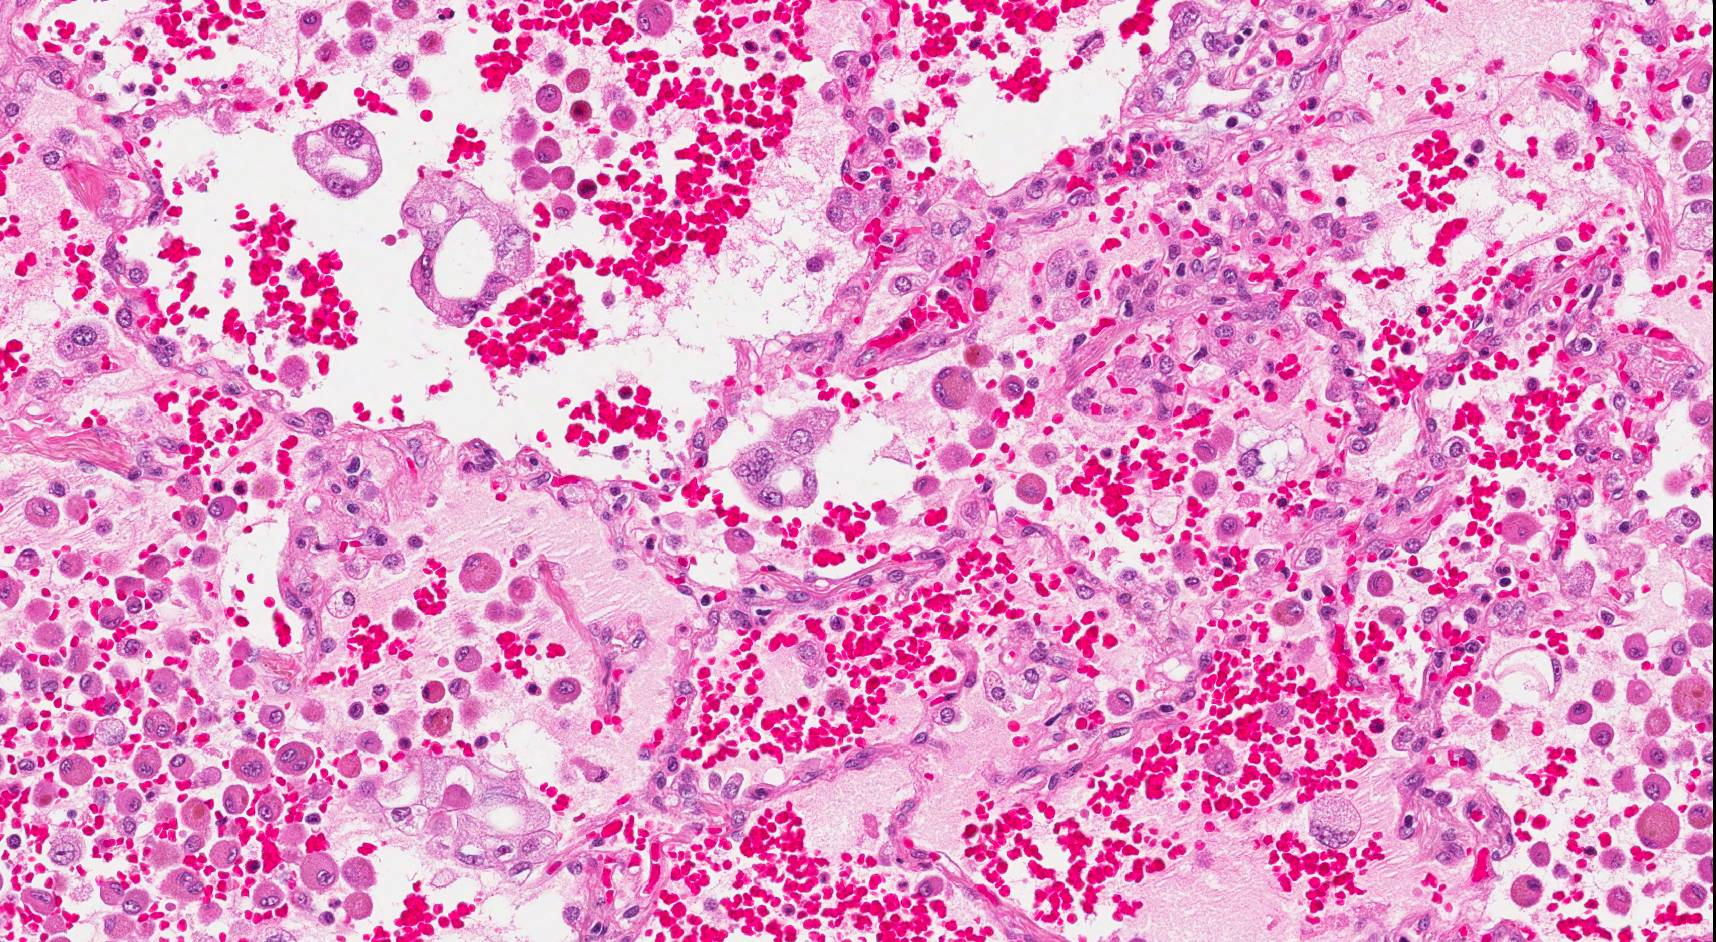stas: (398, 171, 542, 326), (732, 406, 840, 511), (294, 118, 385, 202)
